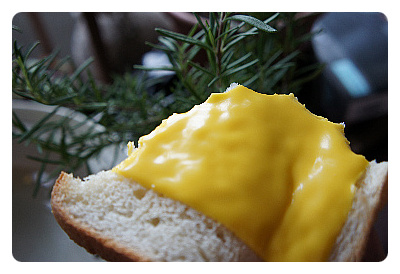slice of bread: (61, 115, 370, 252)
